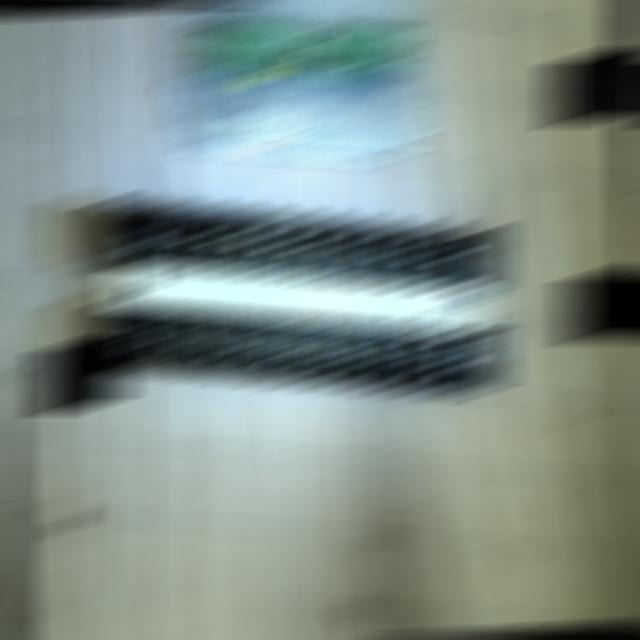Flathead_Block: (78, 203, 514, 390)
Terminal_1: (203, 20, 305, 73), (309, 27, 408, 74)
